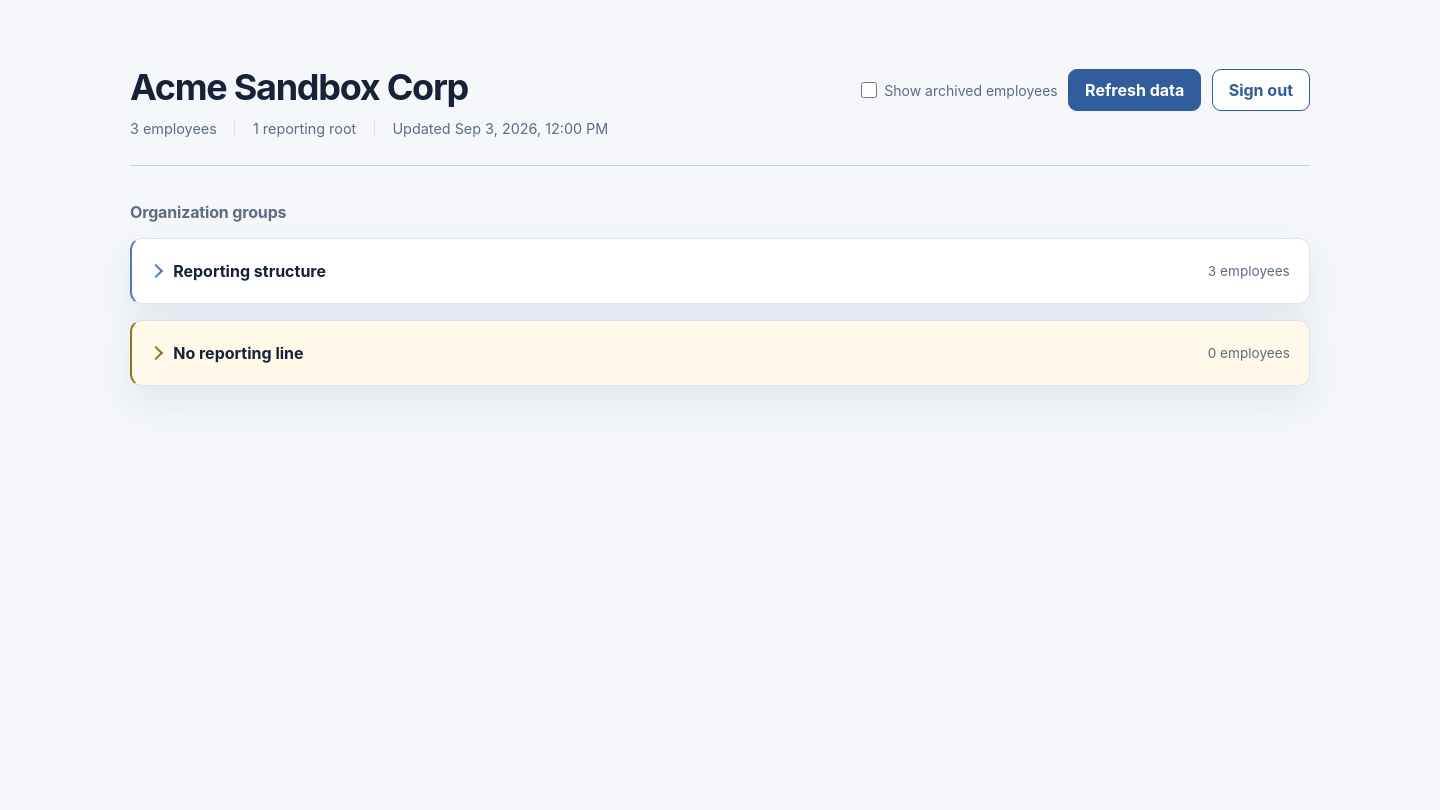
Test: OrgChart › renders every person in a recursive, accessible three-level outline
Click the text "Reporting structure".
click(250, 271)  # box 173,261 -> 326,281
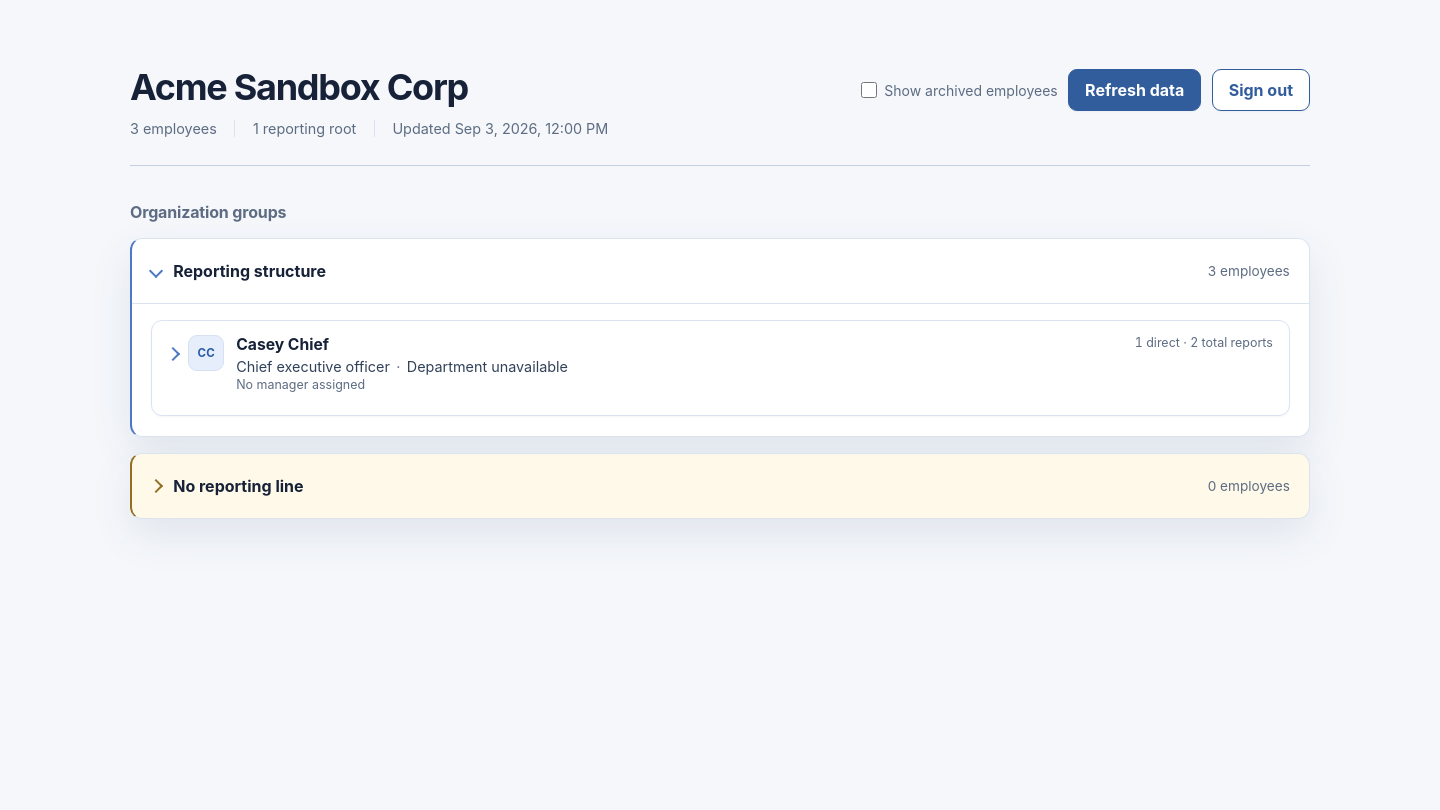
Click the heading "Casey Chief".
click(206, 353)  # box 151,320 -> 1290,416
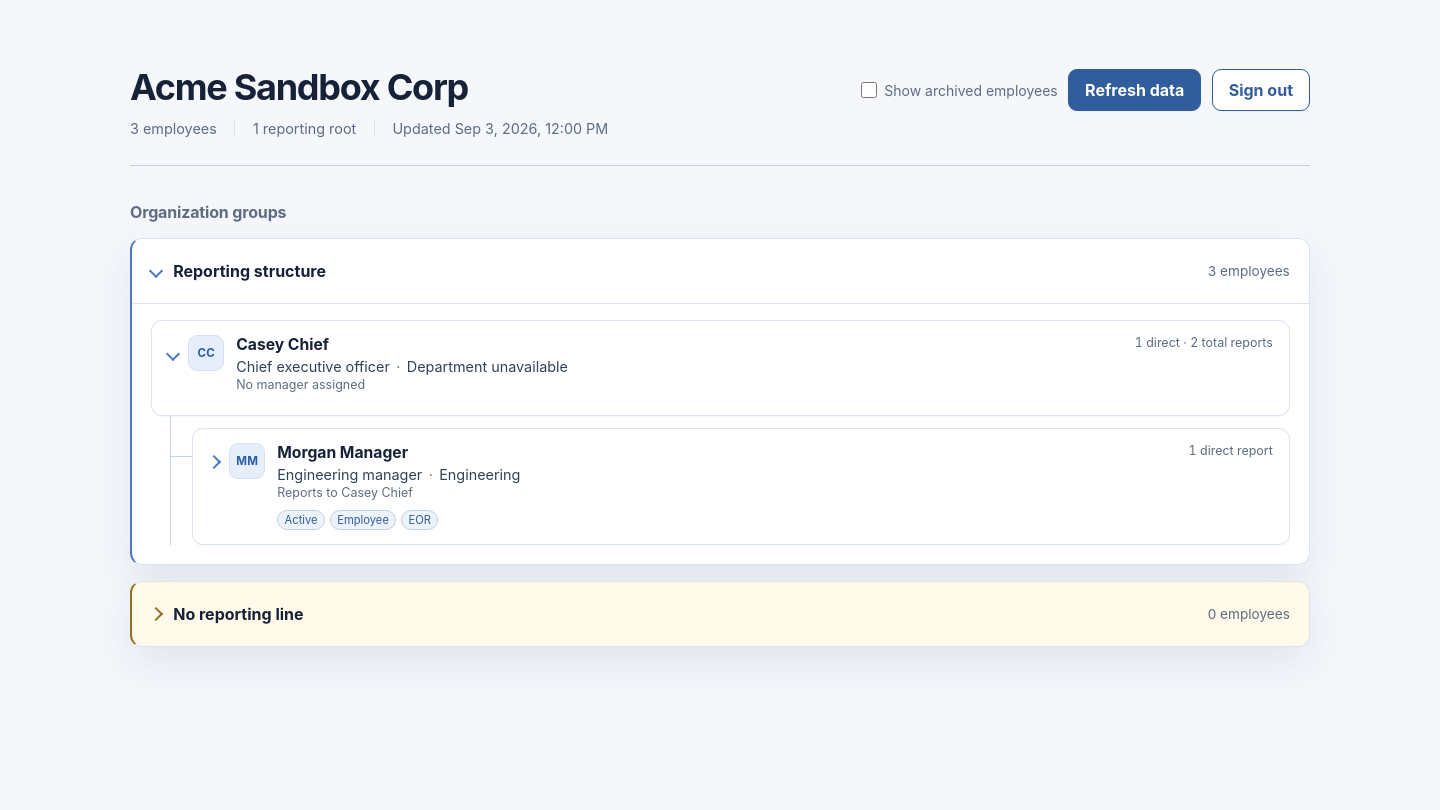
Click the heading "Morgan Manager".
click(247, 461)  # box 192,428 -> 1290,545
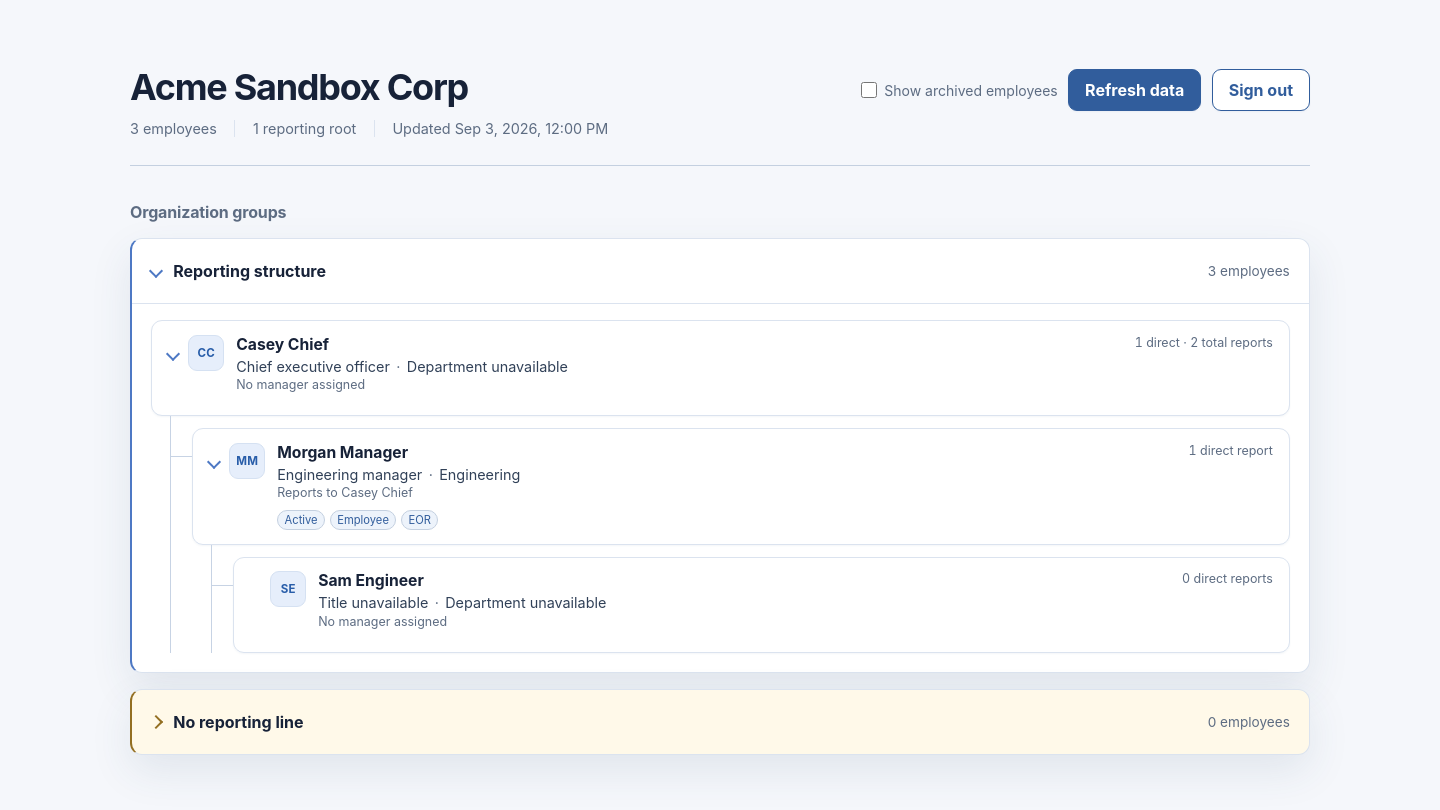
Expected: the list named "Direct reports to Casey Chief" is shown, 170,416 -> 1290,653
Expected: the number of headings "Sam Engineer" is 1, 318,571 -> 424,590
Expected: the list named "Direct reports to Morgan Manager" is shown, 211,545 -> 1290,653
